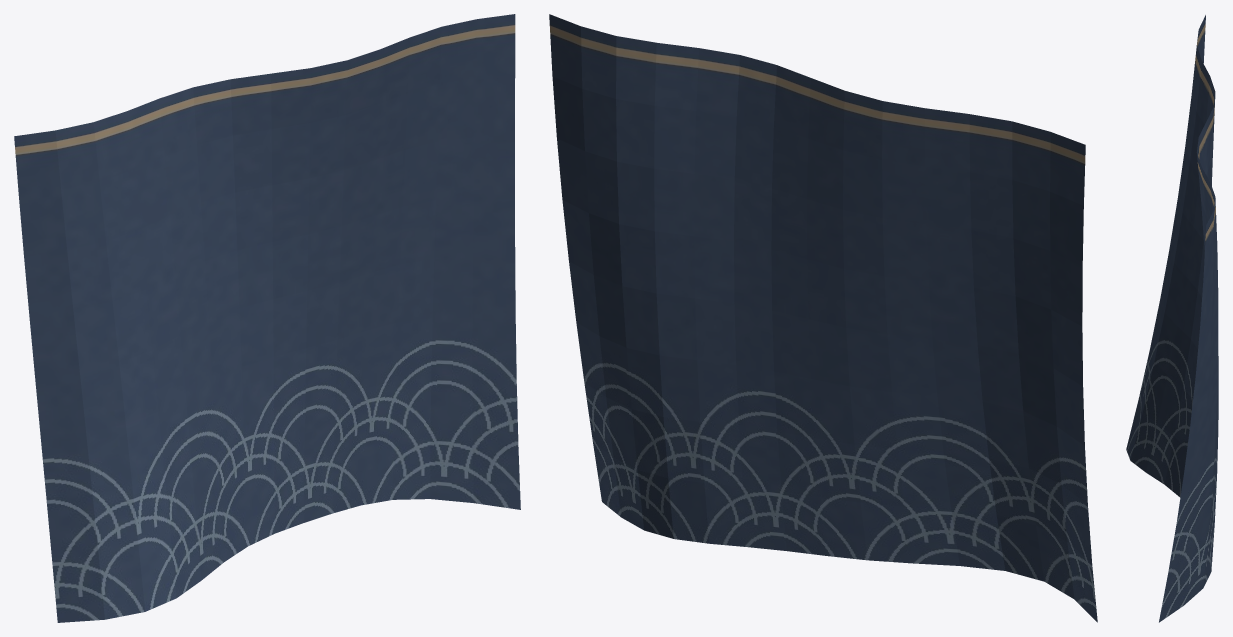
Rendered from bay_0.gltf.
The picture shows the model from 3 angles, left to right: view 1: azimuth 30°, elevation 25°; view 2: azimuth 150°, elevation 25°; view 3: azimuth 270°, elevation 25°; orthographic projection. The views are drawn at different scales.
Parts seen in each view (by area): view 1: indigo_noren; view 2: indigo_noren; view 3: indigo_noren.
Part boxes in pixels (box(x1,y1,x2,y2)): indigo_noren: box(14, 14, 520, 622); indigo_noren: box(549, 14, 1097, 622); indigo_noren: box(1126, 15, 1218, 622).
Size of the model in its own units: 0.68 by 0.61 by 0.1258.
1 material, 1 textured.
